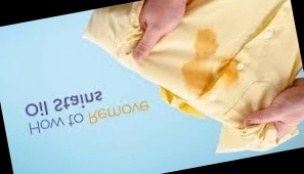oil: (171, 29, 229, 98), (213, 57, 241, 86)
